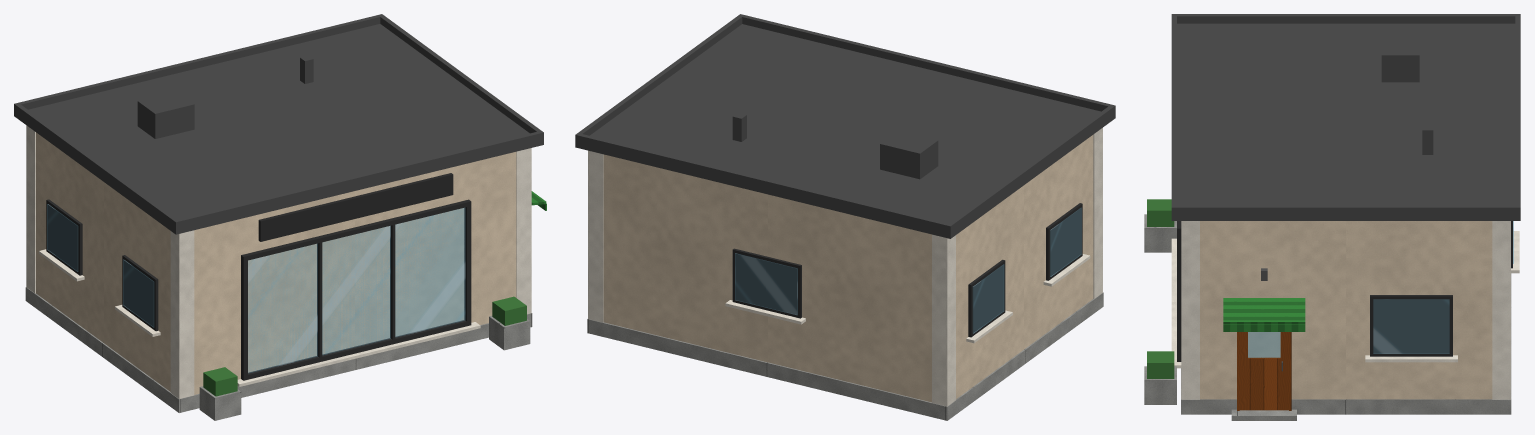
Rendered from shop_small_variant_b.glb.
The picture shows the model from 3 angles, left to right: view 1: azimuth 30°, elevation 25°; view 2: azimuth 150°, elevation 25°; view 3: azimuth 270°, elevation 25°; orthographic projection. The views are drawn at different scales.
Visible parts, largest first — view 1: flat_4A4A4A, plaster_E8D4B8, glass_87CEEB, flat_2C2C2C, plaster_F2EBDD, concrete_9A9A96, flat_3F7D3A; view 2: plaster_E8D4B8, flat_4A4A4A, plaster_F2EBDD, concrete_9A9A96, flat_2C2C2C, glass_87CEEB; view 3: flat_4A4A4A, plaster_E8D4B8, plaster_F2EBDD, concrete_9A9A96, flat_2C2C2C, glass_87CEEB, wood_door_8B4513, awning_fabric_2E7D32, flat_3F7D3A.
Boxes of the visible parts, box(x1,y1,x2,y2) form: flat_4A4A4A: box(14, 14, 543, 234); plaster_E8D4B8: box(36, 132, 516, 394); glass_87CEEB: box(47, 204, 465, 373); flat_2C2C2C: box(46, 173, 471, 380); plaster_F2EBDD: box(26, 125, 531, 398); concrete_9A9A96: box(25, 287, 532, 420); flat_3F7D3A: box(203, 296, 526, 396); plaster_E8D4B8: box(603, 135, 1093, 402); flat_4A4A4A: box(575, 14, 1115, 238); plaster_F2EBDD: box(588, 128, 1102, 406); concrete_9A9A96: box(587, 292, 1103, 420); flat_2C2C2C: box(732, 203, 1082, 337); glass_87CEEB: box(735, 208, 1081, 333); flat_4A4A4A: box(1171, 14, 1520, 220); plaster_E8D4B8: box(1200, 221, 1492, 399); plaster_F2EBDD: box(1171, 221, 1519, 399); concrete_9A9A96: box(1144, 214, 1511, 420); flat_2C2C2C: box(1177, 221, 1512, 361); glass_87CEEB: box(1248, 221, 1513, 357); wood_door_8B4513: box(1237, 332, 1291, 410); awning_fabric_2E7D32: box(1223, 298, 1305, 331); flat_3F7D3A: box(1147, 199, 1174, 378).
Bounding box in the file's own units: 9.02 × 4.67 × 6.9.
Materials: 10 (10 with a texture image).
